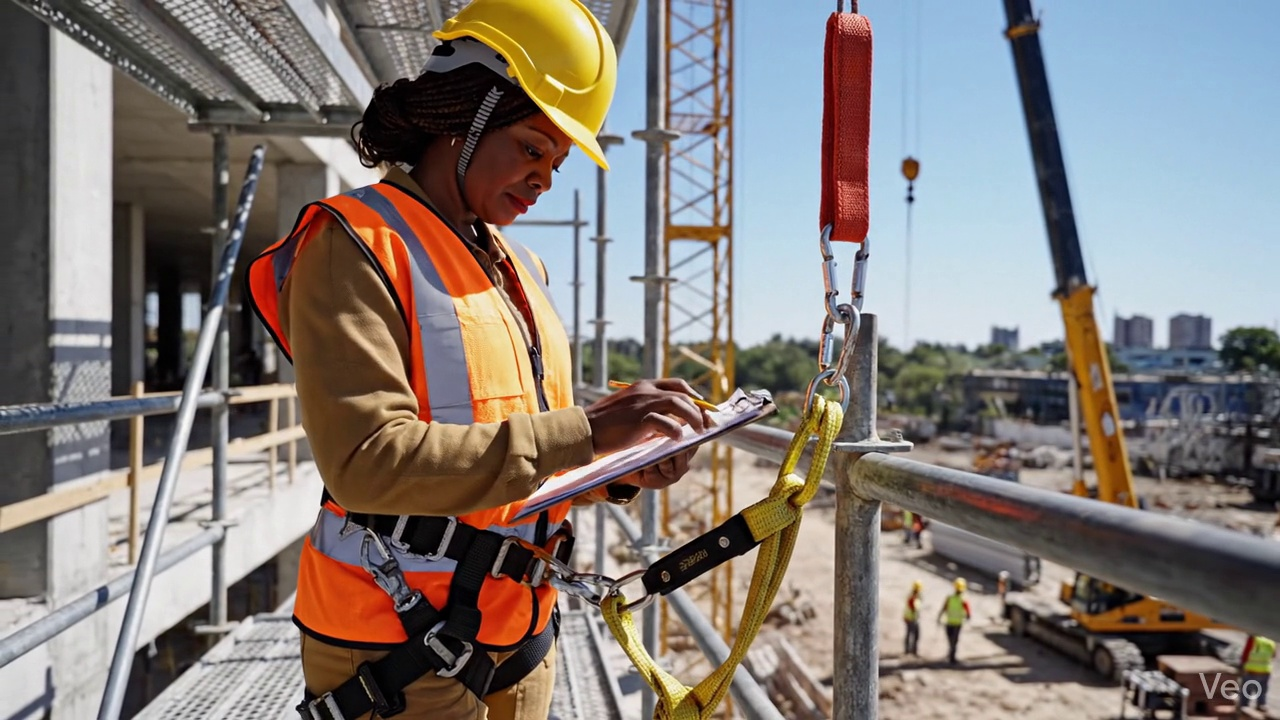p: (248, 0, 704, 719), (576, 450, 693, 504)
